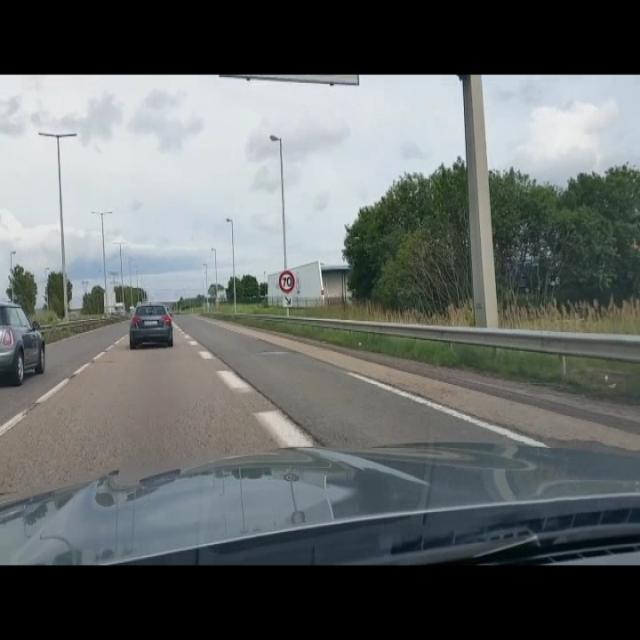side_right: (283, 294, 293, 308)
speed_70: (278, 270, 297, 294)
